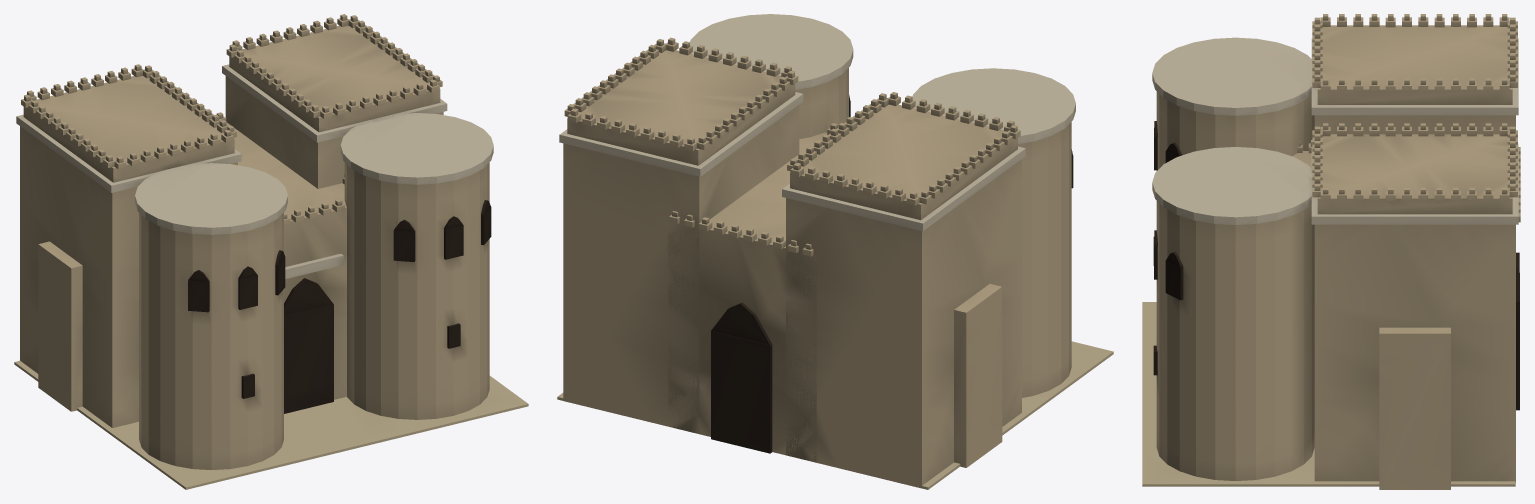
Rendered from bab-zuwayla.glb.
3 views of the same model, side by side, from view 1: azimuth 30°, elevation 25°; view 2: azimuth 150°, elevation 25°; view 3: azimuth 270°, elevation 25° (orthographic). The views are drawn at different scales.
Visible parts, largest first — view 1: p1_gate, p2_parapets, p0_ground; view 2: p1_gate, p2_parapets, p0_ground; view 3: p1_gate, p2_parapets, p0_ground.
Boxes of the visible parts, x1,y1,x2,y2 form: p1_gate: (16,64,493,469); p2_parapets: (21,14,442,225); p0_ground: (14,241,528,489); p1_gate: (559,14,1075,488); p2_parapets: (564,37,1020,256); p0_ground: (557,284,1113,489); p1_gate: (1152,37,1519,483); p2_parapets: (1297,14,1520,222); p0_ground: (1142,302,1515,489).
Size of the model in its own units: 31 by 22.58 by 26.35.
